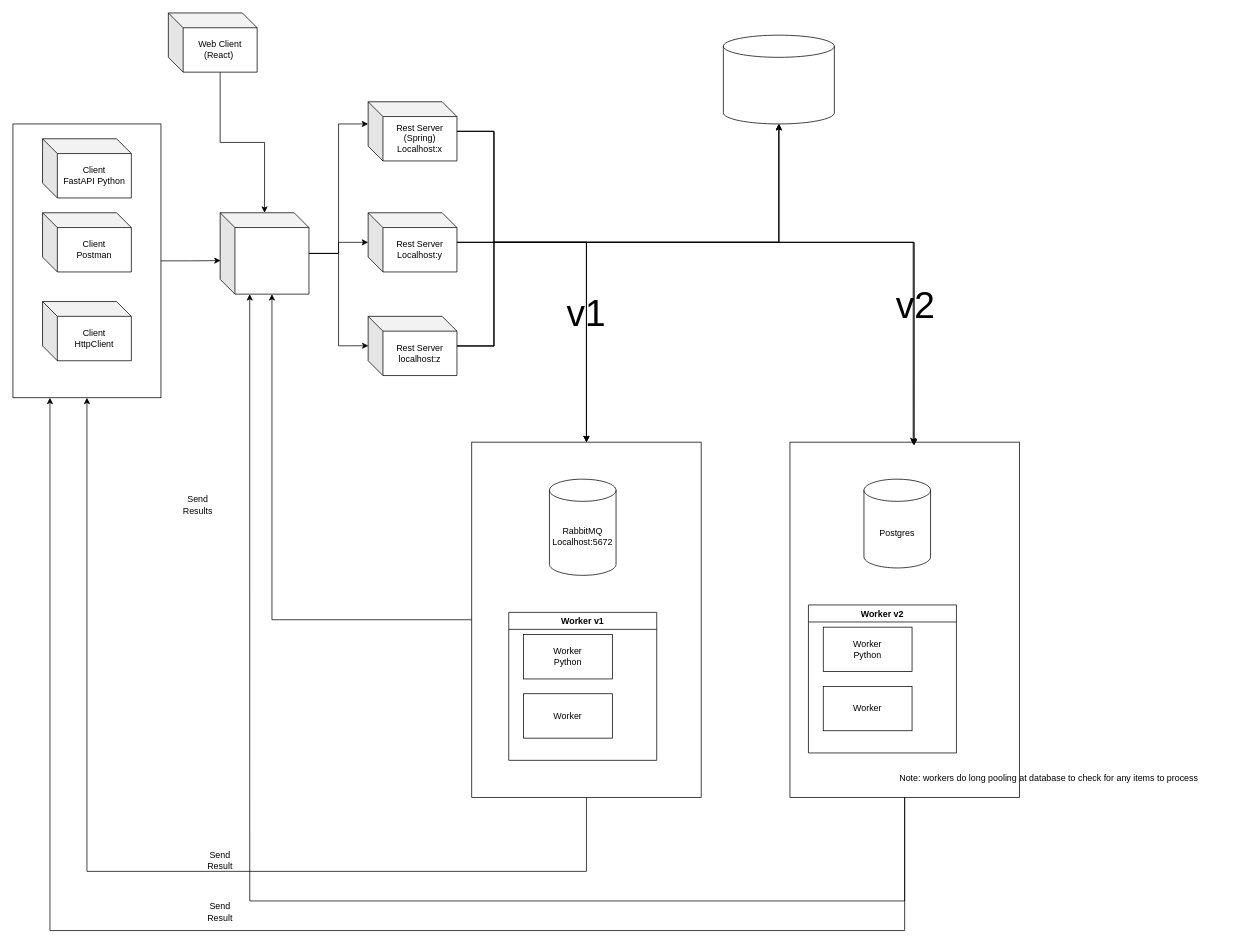
This 1240x949 diagram has some shape labels left out. Each missing label, with the centre of its shape:
NGINX Load balancer Localhost: 80: the point at 264,253
Postgres Database: the point at 778,79
